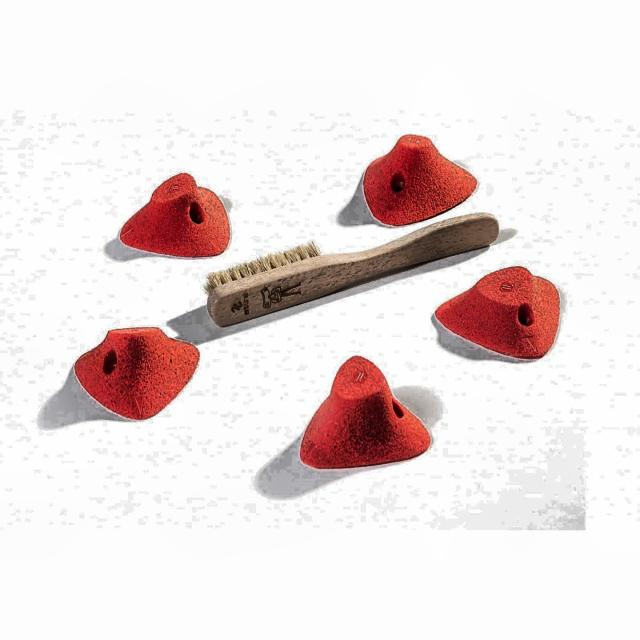Hold: (302, 350, 433, 472), (357, 127, 476, 228), (77, 321, 199, 416), (440, 265, 563, 356), (126, 172, 230, 258)
